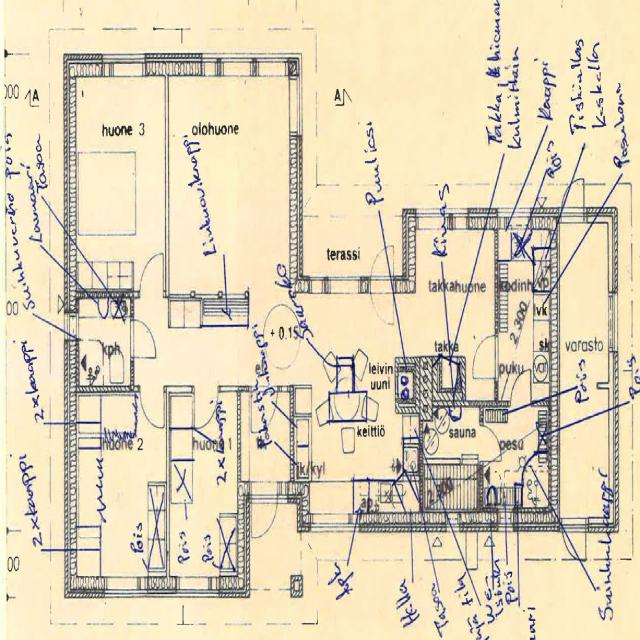door: (251, 481, 277, 547), (251, 386, 278, 438), (370, 235, 394, 293), (370, 276, 394, 334), (562, 518, 586, 574), (561, 169, 584, 223), (471, 335, 498, 378), (140, 386, 164, 434), (139, 250, 163, 297), (195, 386, 218, 432), (479, 424, 505, 462), (130, 319, 156, 357), (511, 366, 531, 406)
